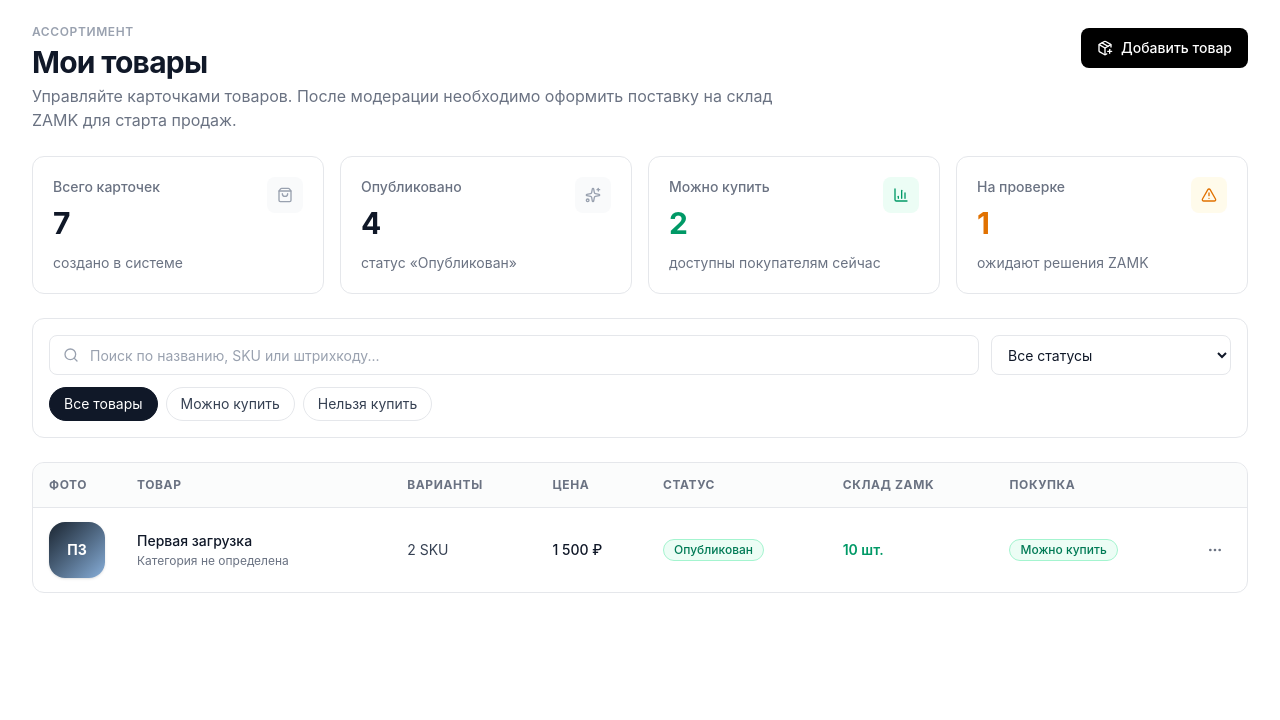
Test case: SellerProducts — publication vs availability › K. a slow answer to an old filter never overwrites the newest one
The width and height of the screenshot is (1280, 720).
expect the text "Первая загрузка" is shown: met, box [137, 532, 252, 549]
Click the button with test id "products-availability-available" at (230, 404), box [166, 387, 295, 421]
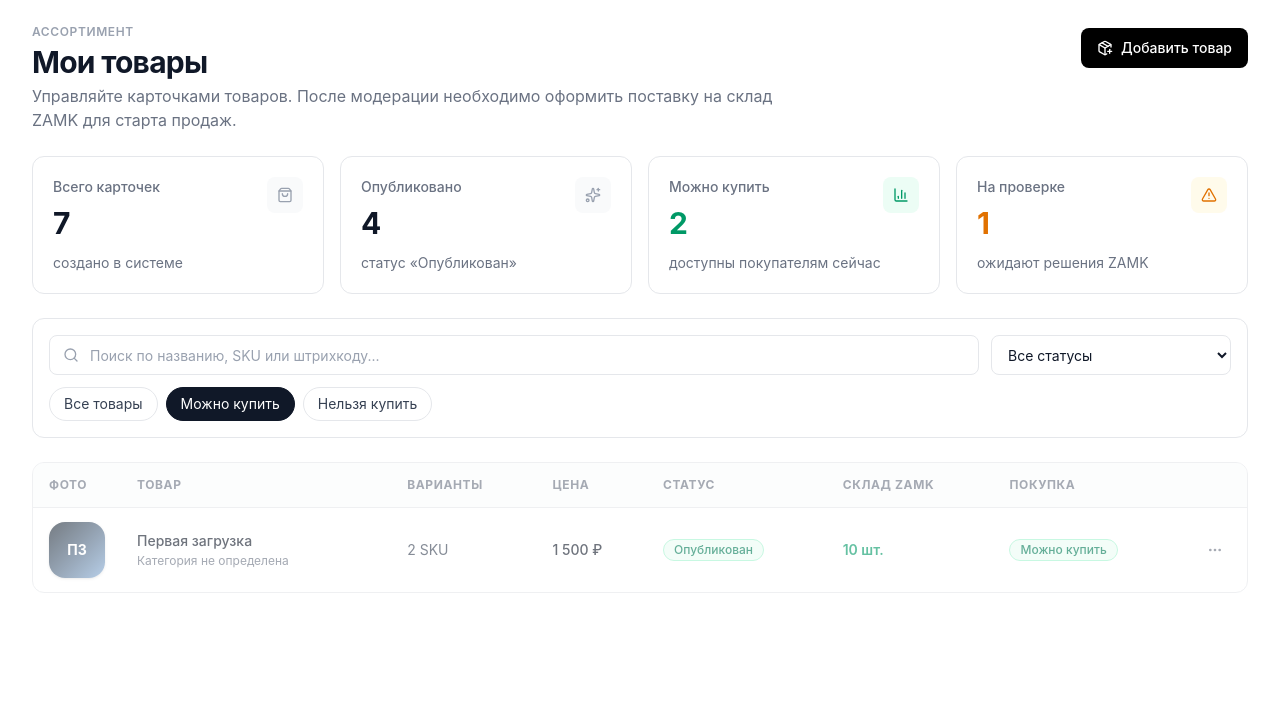
Click the button with test id "products-availability-unavailable" at (368, 404), box [303, 387, 432, 421]
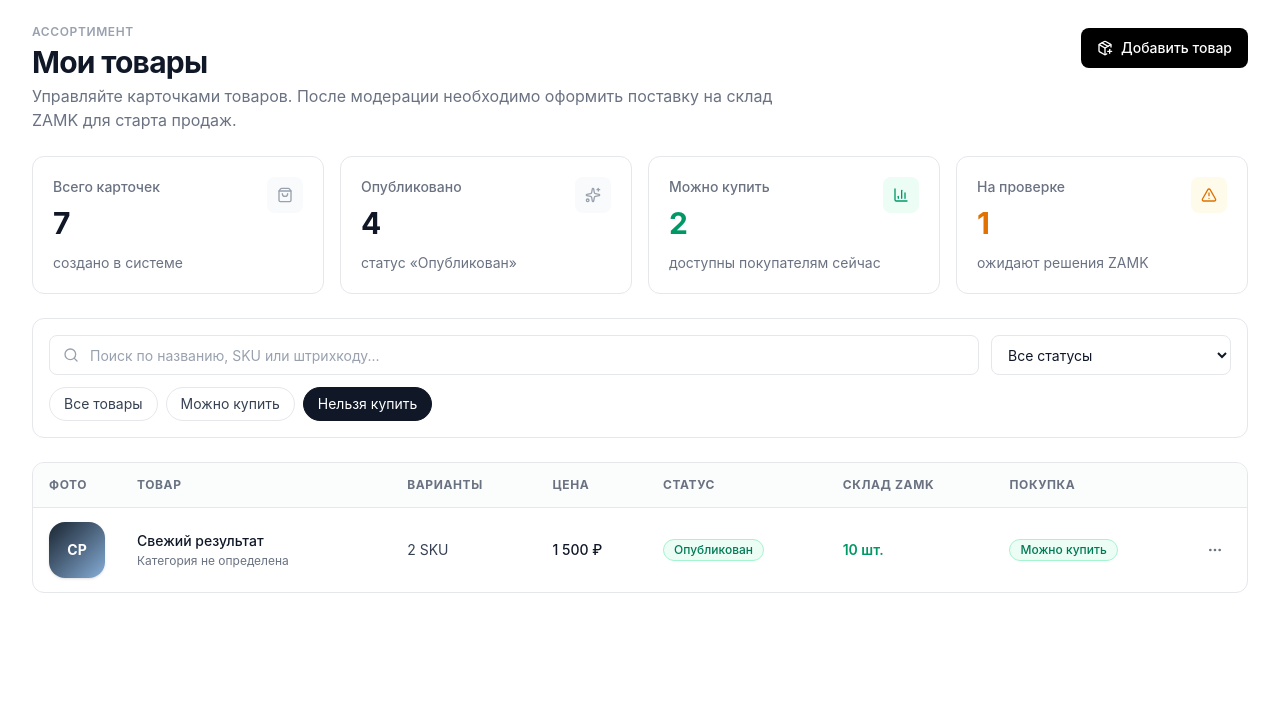
expect the text "Свежий результат" is shown: met, box [137, 532, 264, 549]
